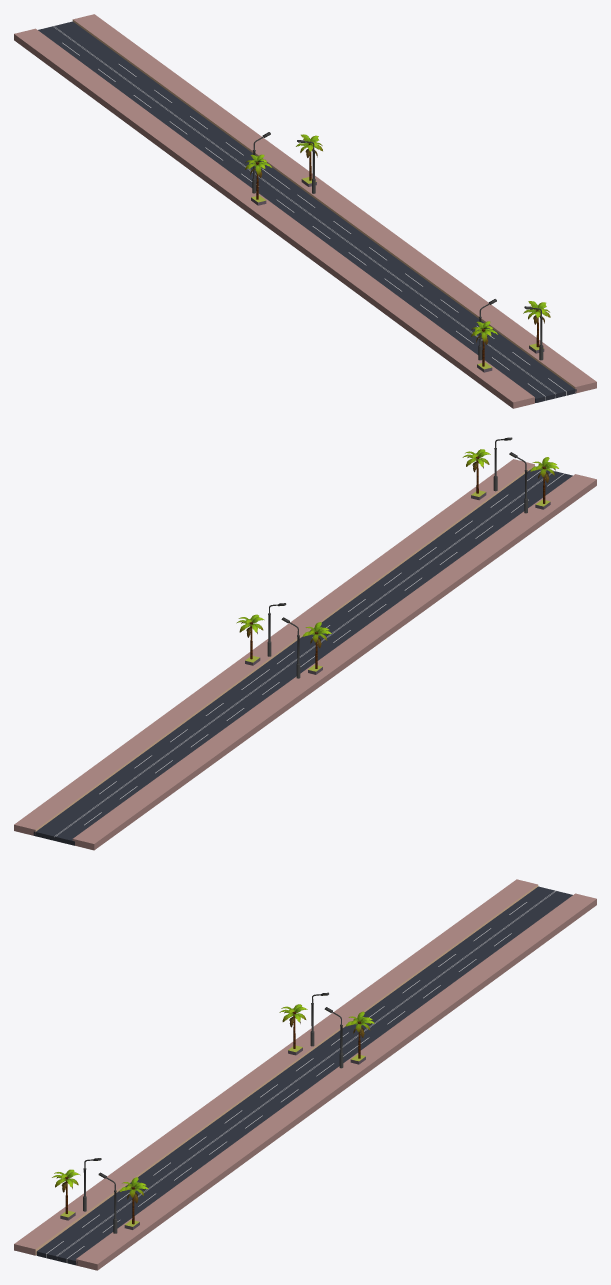
Rendered from Asphalt-2.glb.
The picture shows the model from 3 angles, top to bottom: view 1: azimuth 30°, elevation 25°; view 2: azimuth 150°, elevation 25°; view 3: azimuth 330°, elevation 25°; orthographic projection.
Visible parts, largest first — view 1: Cube.745, Cube.779, Cube.746; view 2: Cube.745, Cube.779, Cube.746; view 3: Cube.745, Cube.746, Cube.779.
Boxes of the visible parts, x1=… form: Cube.745: x1=38, y1=21, x2=576, y2=402; Cube.779: x1=14, y1=28, x2=534, y2=408; Cube.746: x1=72, y1=14, x2=596, y2=393; Cube.745: x1=33, y1=466, x2=572, y2=845; Cube.779: x1=72, y1=474, x2=596, y2=850; Cube.746: x1=14, y1=459, x2=534, y2=835; Cube.745: x1=36, y1=886, x2=572, y2=1265; Cube.746: x1=76, y1=893, x2=596, y2=1270; Cube.779: x1=14, y1=879, x2=538, y2=1255.
Bounding box in the file's own units: 20.49 × 14.51 × 210.
Materials: 8 (1 with a texture image).
